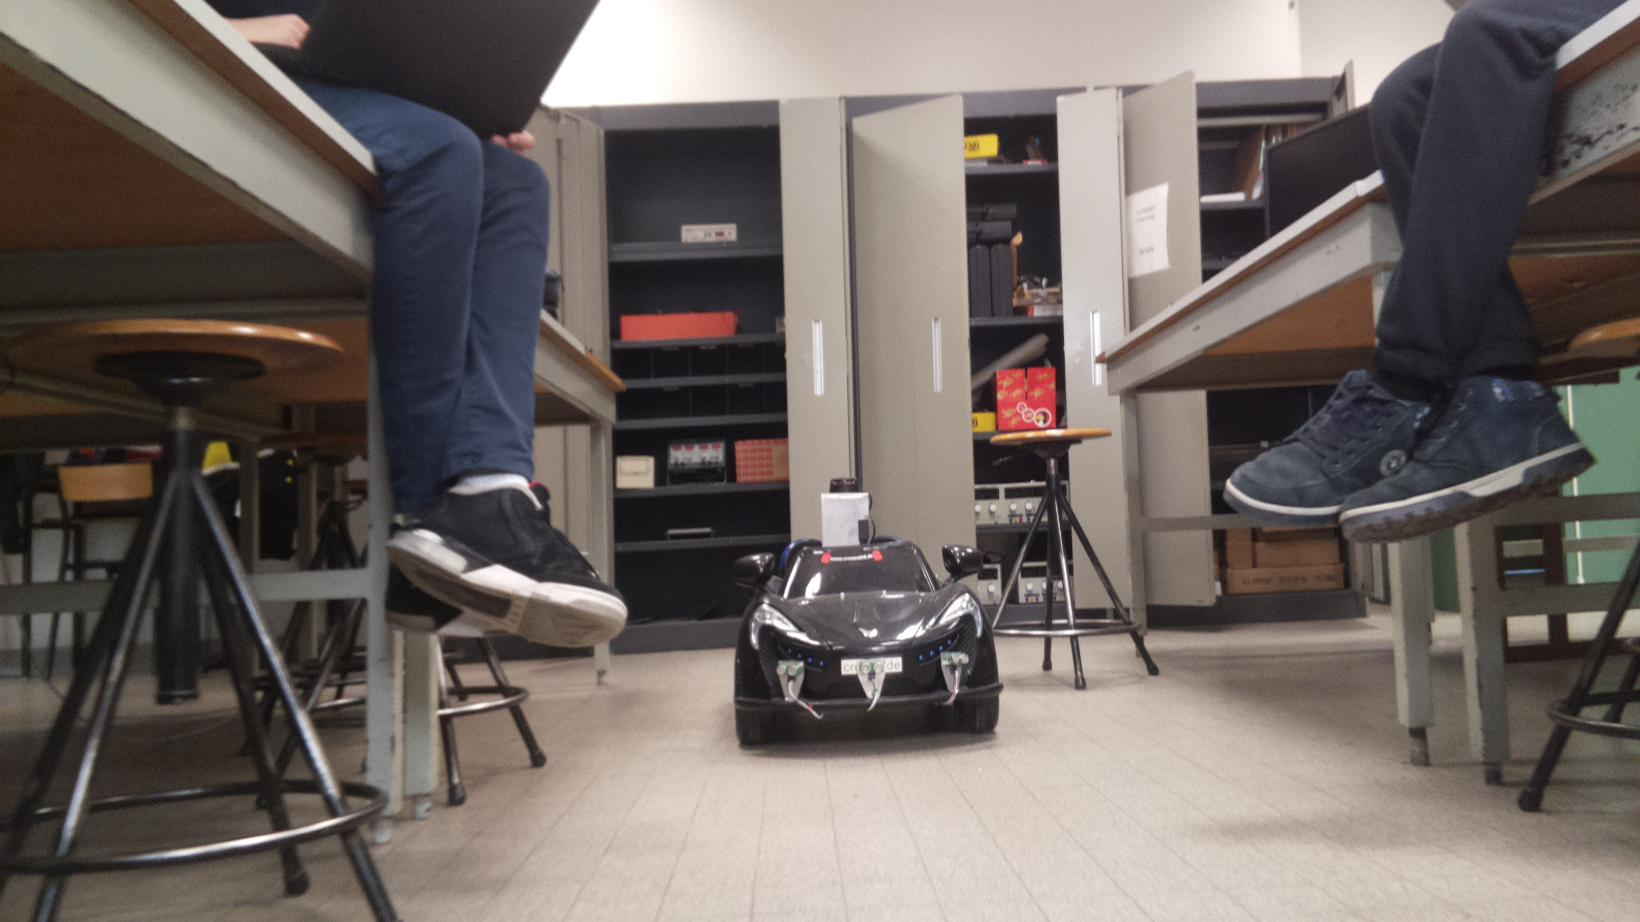big: (725, 475, 1008, 750)
